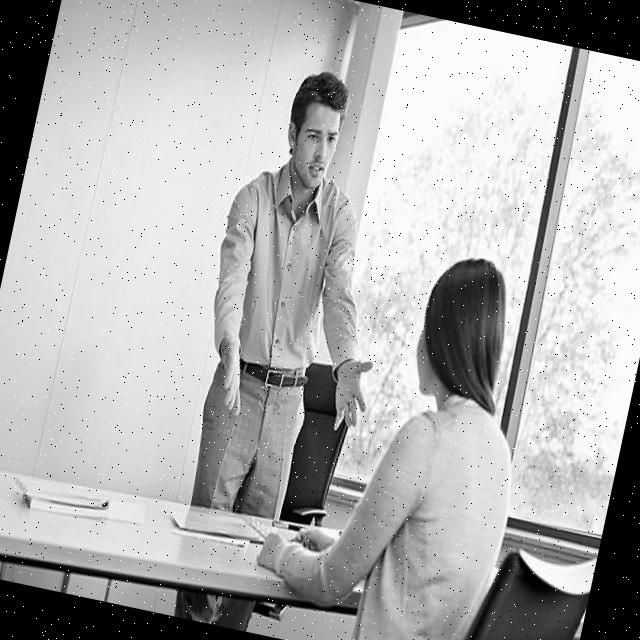Angry: (286, 100, 344, 192)
